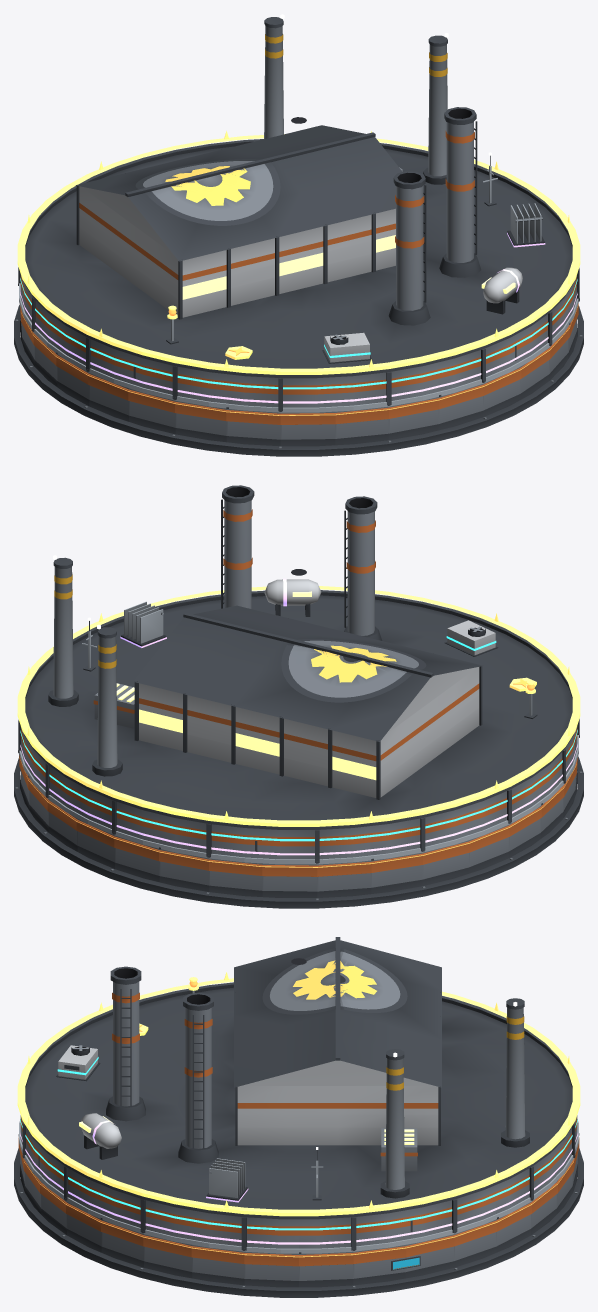
The model's file is refinery_l.glb.
3 renders of one model, top to bottom at view 1: azimuth 30°, elevation 25°; view 2: azimuth 150°, elevation 25°; view 3: azimuth 270°, elevation 25°, orthographic.
Visible parts, largest first — view 1: Roof, Base, L4, Wall_21, Wall_20, Wall_22, Wall_19, Wall_23, Wall_18, Upper_21, Wall_24, Upper_22 (+17 smaller); view 2: Roof, Base, L4, Wall_10, Wall_11, Wall_09, Wall_12, Wall_08, Wall_13, Wall_07, Upper_10, Upper_09 (+17 smaller); view 3: Roof, Base, L4, Wall_00, Wall_31, Wall_30, Wall_01, Wall_29, Wall_02, Upper_00, Upper_31, Wall_28 (+23 smaller).
Part boxes in pixels (box(x1,y1,x2,y2)): Roof: box(24, 14, 573, 378); Base: box(14, 305, 583, 456); L4: box(481, 203, 545, 314); Wall_21: box(280, 411, 335, 446); Wall_20: box(226, 407, 280, 446); Wall_22: box(335, 406, 388, 445); Wall_19: box(175, 401, 226, 442); Wall_23: box(388, 397, 438, 440); Wall_18: box(128, 388, 175, 434); Upper_21: box(280, 377, 335, 411); Wall_24: box(438, 384, 483, 430); Upper_22: box(335, 372, 389, 406); Roof: box(24, 485, 573, 829); Base: box(14, 756, 583, 908); L4: box(120, 578, 321, 647); Wall_10: box(262, 863, 317, 897); Wall_11: box(317, 860, 371, 897); Wall_09: box(209, 858, 262, 896); Wall_12: box(371, 852, 422, 893); Wall_08: box(159, 847, 209, 891); Wall_13: box(422, 840, 469, 886); Wall_07: box(114, 835, 159, 882); Upper_10: box(262, 829, 317, 862); Upper_09: box(208, 824, 262, 858); Roof: box(24, 937, 573, 1219); Base: box(14, 1148, 583, 1297); L4: box(79, 1113, 248, 1202); Wall_00: box(299, 1251, 353, 1287); Wall_31: box(244, 1251, 298, 1287); Wall_30: box(191, 1245, 244, 1285); Wall_01: box(353, 1245, 406, 1285); Wall_29: box(143, 1234, 192, 1278); Wall_02: box(405, 1234, 454, 1278); Upper_00: box(299, 1217, 353, 1250); Upper_31: box(244, 1217, 298, 1250); Wall_28: box(100, 1217, 143, 1267).
Size of the model in its own units: 18.96 by 8.52 by 18.96.
